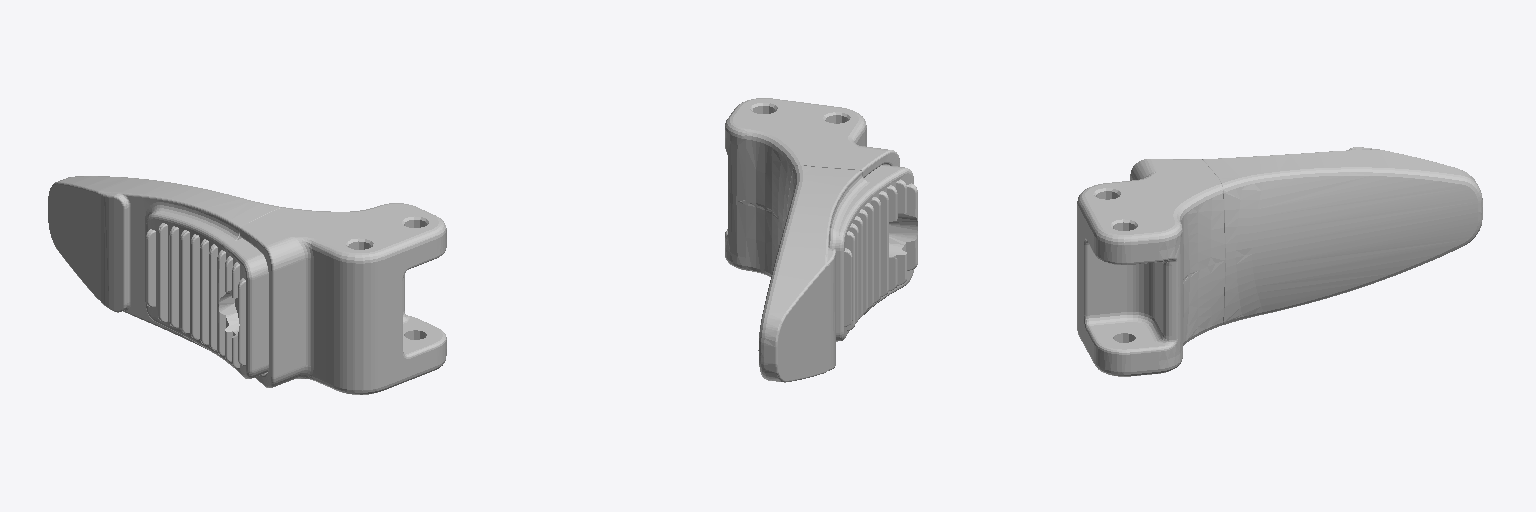
The model's file is r_f_fingers.obj.
The picture shows the model from 3 angles: view 1: azimuth 30°, elevation 25°; view 2: azimuth 150°, elevation 25°; view 3: azimuth 270°, elevation 25°; orthographic projection.
Visible parts, largest first — view 1: obj1; view 2: obj1; view 3: obj1.
Boxes of the visible parts, <box> form: obj1: <box>48,176,446,394</box>; obj1: <box>725,98,917,382</box>; obj1: <box>1077,147,1482,376</box>.
Size of the model in its own units: 0.0323 by 0.02 by 0.0521.